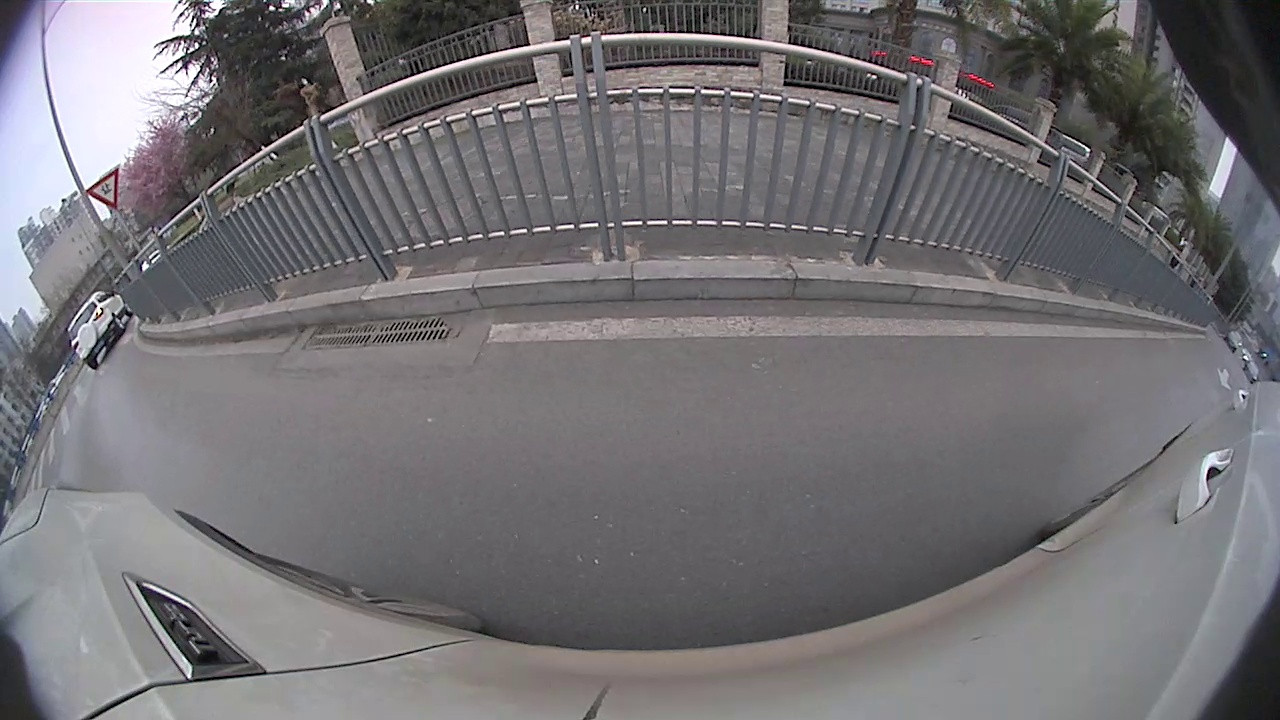car: (1177, 367, 1277, 531), (64, 216, 161, 323)
front: (1190, 419, 1217, 449), (97, 274, 116, 298)
rear: (140, 234, 159, 255)
